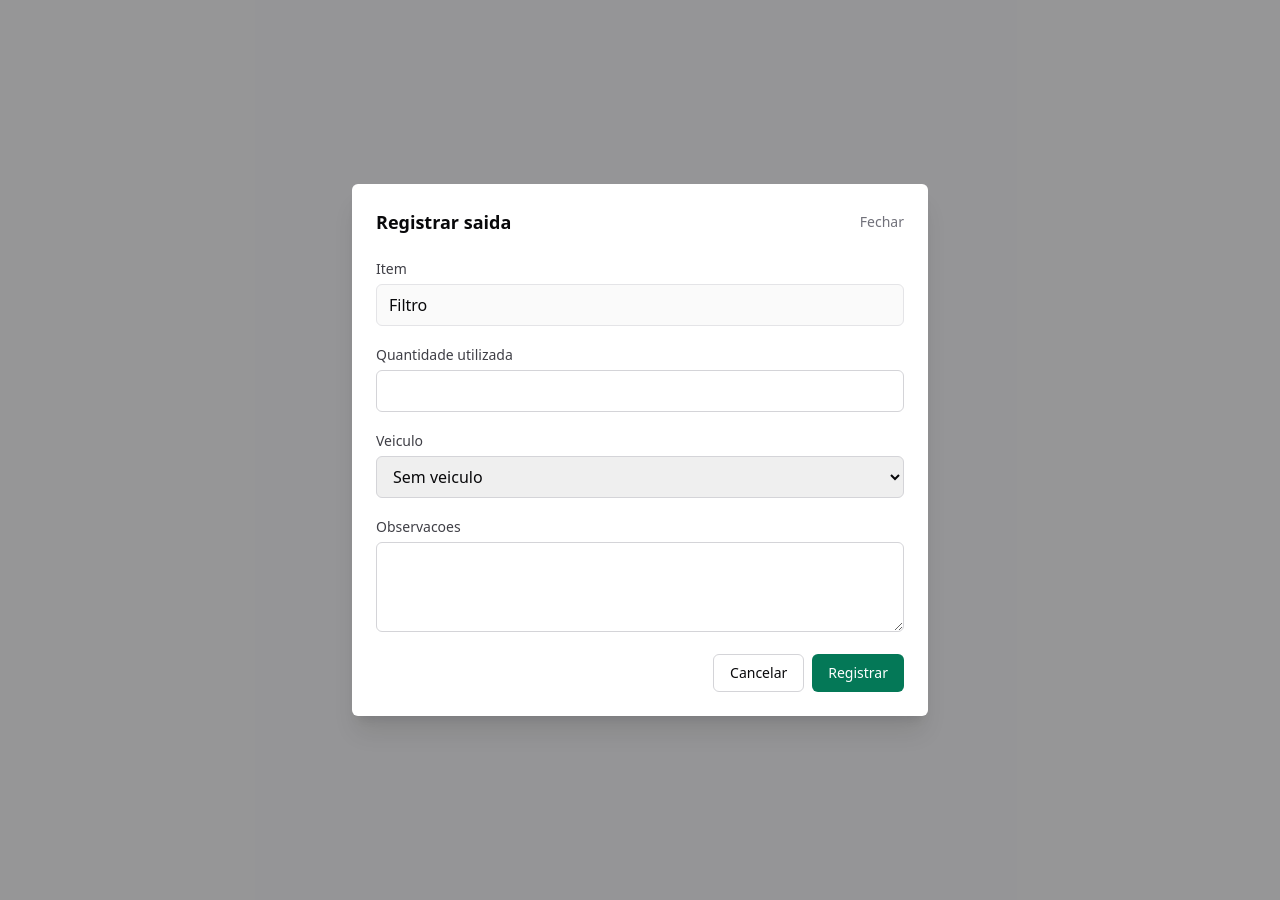
Test case: RegistrarSaidaModal › valida quantidade obrigatoria
Click the button "Registrar" at (858, 673), box [812,654,904,692]
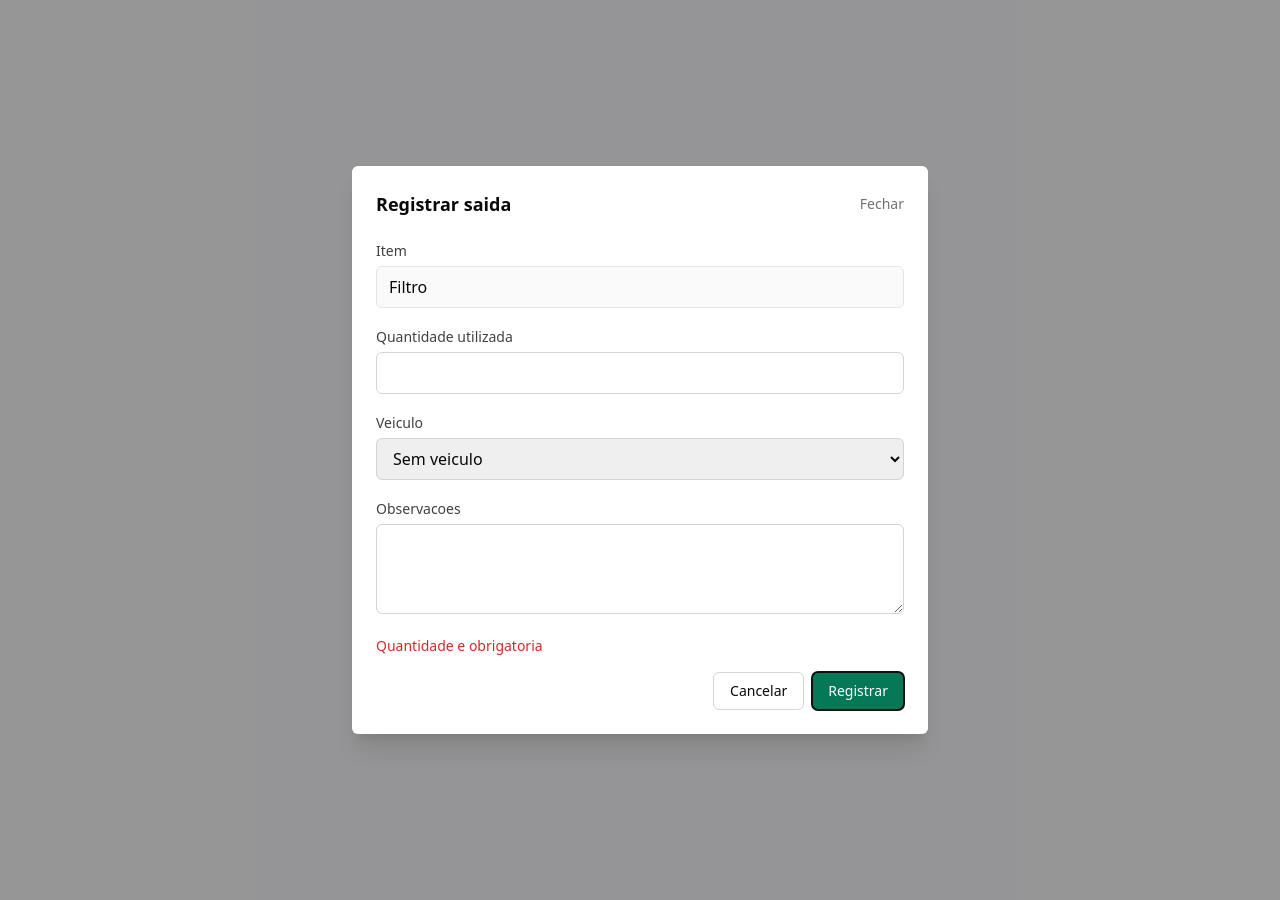
Expected: the text "Quantidade e obrigatoria" is shown, [376,636,543,655]
